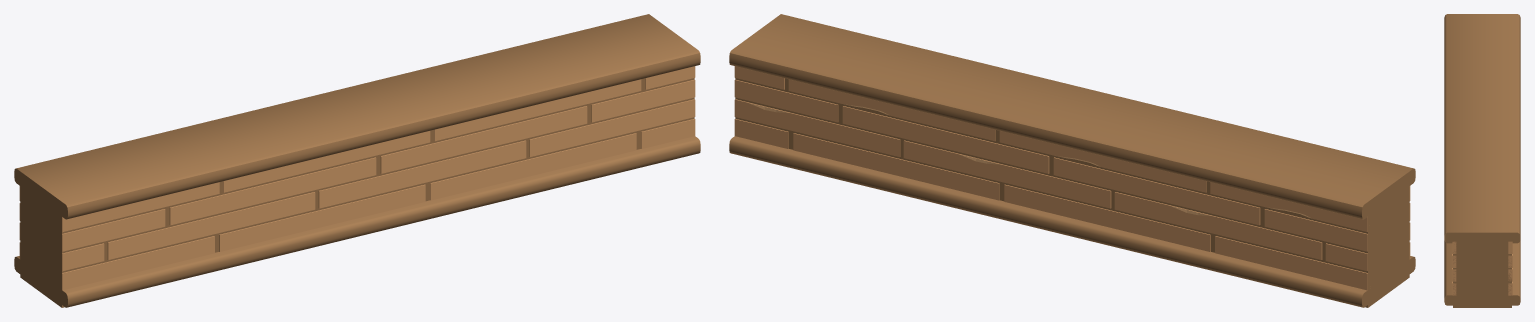
The model's file is counter.glb.
3 views of the same model, side by side, from view 1: azimuth 30°, elevation 25°; view 2: azimuth 150°, elevation 25°; view 3: azimuth 270°, elevation 25° (orthographic). The views are drawn at different scales.
Visible parts, largest first — view 1: Environment_Counter_Straight.002, Environment_Counter_Straight.001, Environment_Counter_Straight; view 2: Environment_Counter_Straight.002, Environment_Counter_Straight.001, Environment_Counter_Straight; view 3: Environment_Counter_Straight.001, Environment_Counter_Straight, Environment_Counter_Straight.002.
Part boxes in pixels (box(x1,y1,x2,y2)): Environment_Counter_Straight.002: box(14, 117, 278, 307); Environment_Counter_Straight.001: box(438, 14, 700, 204); Environment_Counter_Straight: box(227, 65, 489, 255); Environment_Counter_Straight.002: box(1151, 117, 1415, 307); Environment_Counter_Straight.001: box(729, 14, 991, 204); Environment_Counter_Straight: box(940, 65, 1202, 255); Environment_Counter_Straight.001: box(1444, 160, 1520, 307); Environment_Counter_Straight: box(1444, 87, 1520, 162); Environment_Counter_Straight.002: box(1444, 14, 1520, 89).
Size of the model in its own units: 12 by 1.92 by 1.77.
Materials: 1 (1 with a texture image).
